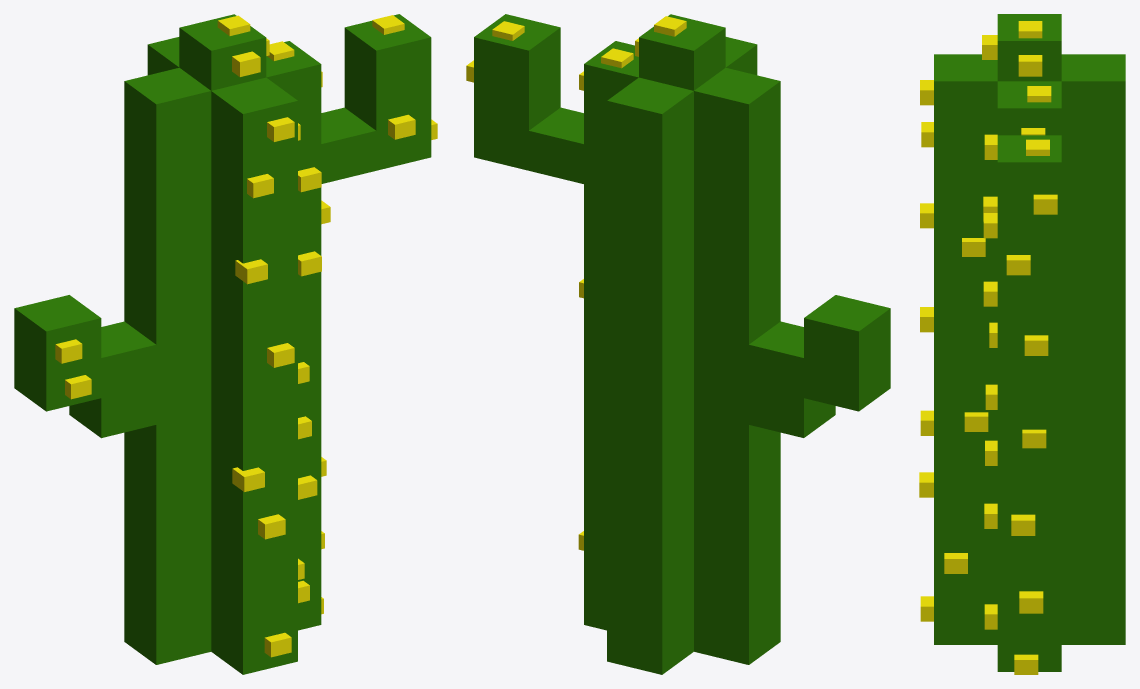
Rendered from cactus_1.fbx.
3 views of the same model, side by side, from view 1: azimuth 30°, elevation 25°; view 2: azimuth 150°, elevation 25°; view 3: azimuth 270°, elevation 25° (orthographic).
Parts seen in each view (by area): view 1: Torus.003; view 2: Torus.003; view 3: Torus.003.
Part boxes in pixels (x1=…): Torus.003: x1=14, y1=14, x2=437, y2=674; Torus.003: x1=466, y1=14, x2=890, y2=674; Torus.003: x1=919, y1=14, x2=1125, y2=674.
Size of the model in its own units: 381 by 560 by 171.
